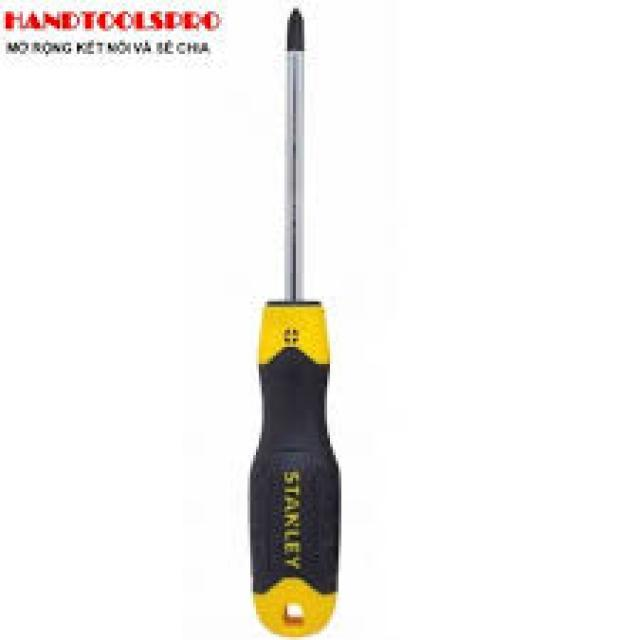screwdriver: (246, 3, 346, 640)
